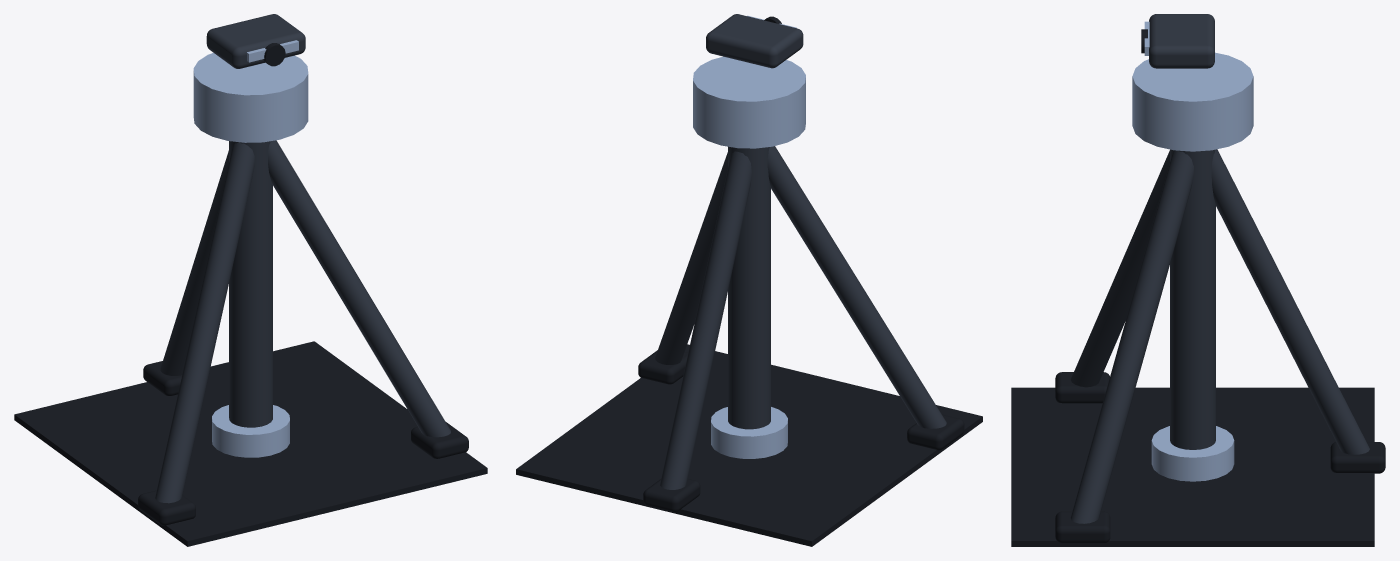
The picture shows the model from 3 angles, left to right: view 1: azimuth 30°, elevation 25°; view 2: azimuth 150°, elevation 25°; view 3: azimuth 270°, elevation 25°; orthographic projection. The views are drawn at different scales.
Parts seen in each view (by area): view 1: mount-clearance, mount-frame, tripod-leg-left, mount-pivot, tripod-leg-right, camera-cradle, tripod-leg-back, mount-anchor, tripod-foot-left, tripod-foot-right, tripod-foot-back; view 2: mount-clearance, mount-frame, mount-pivot, tripod-leg-back, tripod-leg-left, tripod-leg-right, camera-cradle, mount-anchor, tripod-foot-back, tripod-foot-left, tripod-foot-right; view 3: mount-clearance, mount-frame, tripod-leg-right, mount-pivot, tripod-leg-back, tripod-leg-left, camera-cradle, mount-anchor, tripod-foot-right, tripod-foot-back, tripod-foot-left.
Boxes of the visible parts, box(x1,y1,x2,y2) form: mount-clearance: box(14, 341, 487, 546); mount-frame: box(229, 141, 272, 427); tripod-leg-left: box(155, 142, 254, 503); mount-pivot: box(193, 53, 308, 142); tripod-leg-right: box(268, 140, 450, 437); camera-cradle: box(206, 14, 305, 68); tripod-leg-back: box(160, 150, 228, 375); mount-anchor: box(212, 405, 289, 457); tripod-foot-left: box(138, 490, 195, 525); tripod-foot-right: box(411, 422, 468, 458); tripod-foot-back: box(143, 361, 182, 395); mount-clearance: box(516, 344, 982, 546); mount-frame: box(728, 146, 770, 429); mount-pivot: box(693, 56, 805, 148); tripod-leg-back: box(660, 151, 751, 489); tripod-leg-left: box(767, 146, 946, 428); tripod-leg-right: box(655, 152, 727, 364); camera-cradle: box(706, 14, 803, 68); mount-anchor: box(711, 407, 787, 458); tripod-foot-back: box(643, 479, 700, 512); tripod-foot-left: box(907, 414, 964, 450); tripod-foot-right: box(638, 350, 688, 384); mount-clearance: box(1011, 387, 1374, 546); mount-frame: box(1170, 149, 1215, 449); tripod-leg-right: box(1070, 150, 1193, 523); mount-pivot: box(1132, 52, 1253, 151); tripod-leg-back: box(1211, 149, 1369, 454); tripod-leg-left: box(1071, 150, 1169, 387); camera-cradle: box(1149, 14, 1214, 68); mount-anchor: box(1151, 426, 1234, 481); tripod-foot-right: box(1055, 511, 1110, 543); tripod-foot-back: box(1330, 442, 1385, 473); tripod-foot-left: box(1055, 372, 1109, 403).
Size of the model in its own units: 0.68 by 0.8825 by 0.68.
